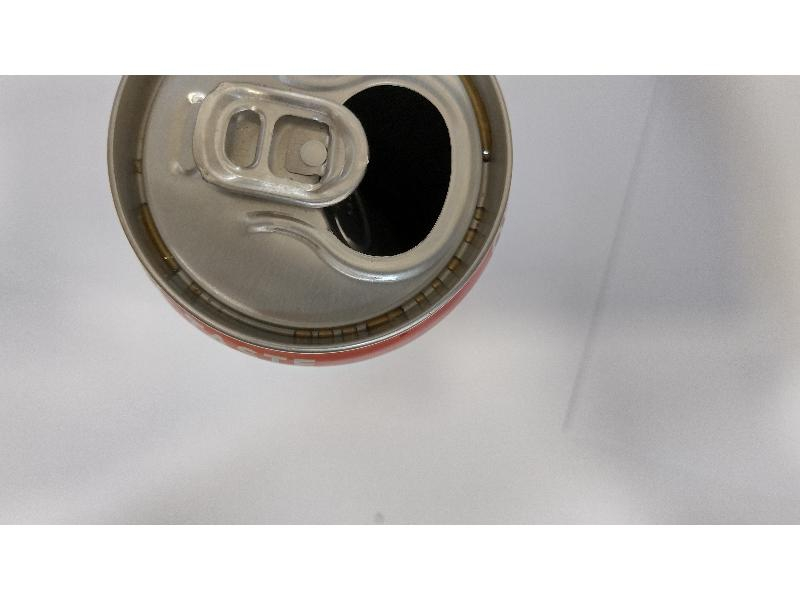can: (110, 76, 521, 375)
